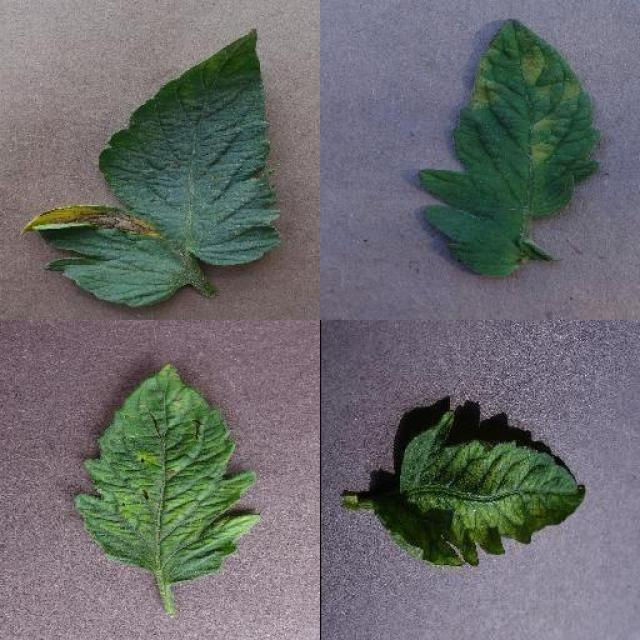Early Blight: (18, 30, 286, 308)
